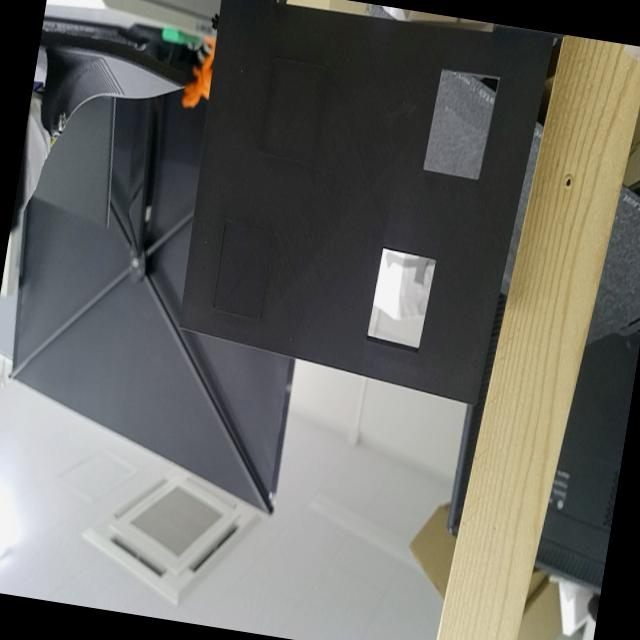Obstacle: (423, 71, 500, 182), (365, 250, 435, 354)
Wall: (179, 0, 551, 406)
